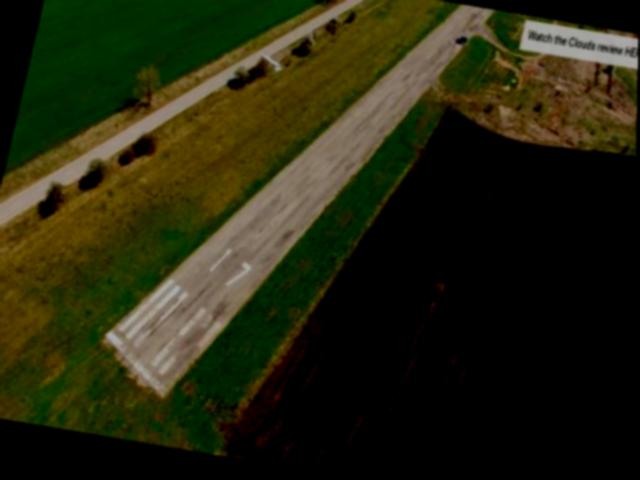uav: (247, 49, 287, 82)
